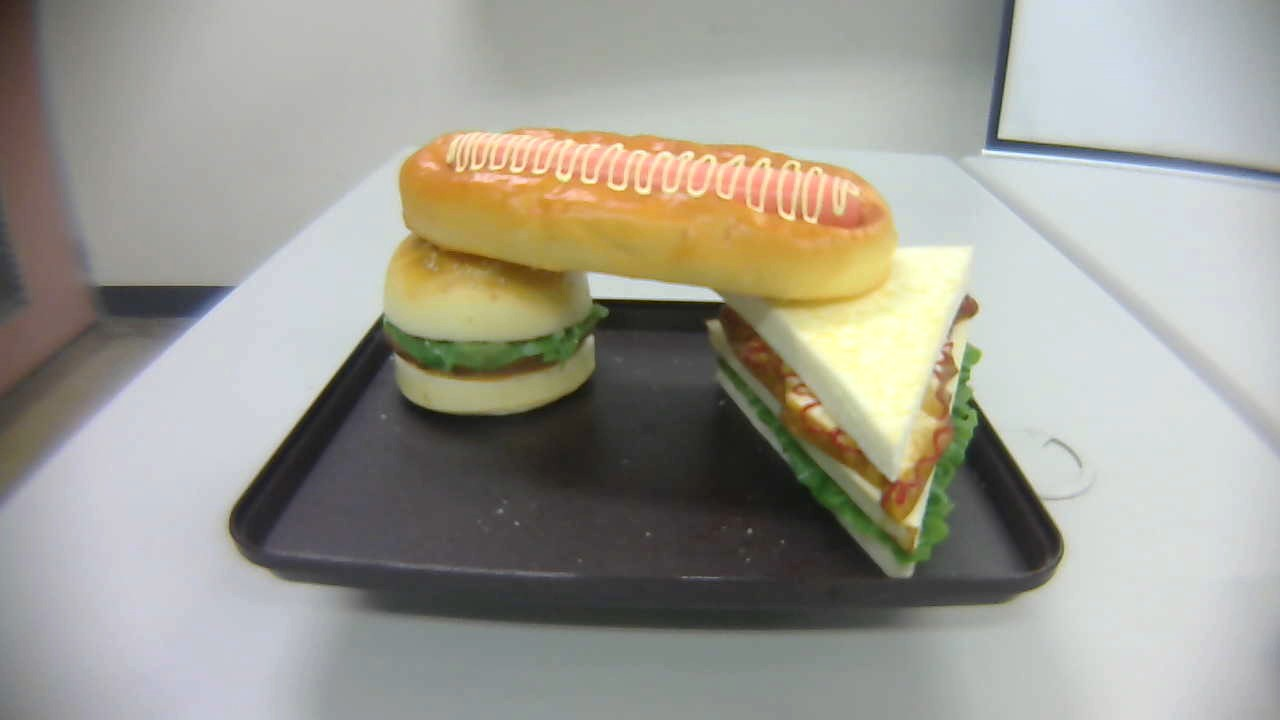hamburger: (386, 231, 608, 419)
hot dog: (400, 126, 898, 299)
sandwich: (707, 241, 983, 585)
